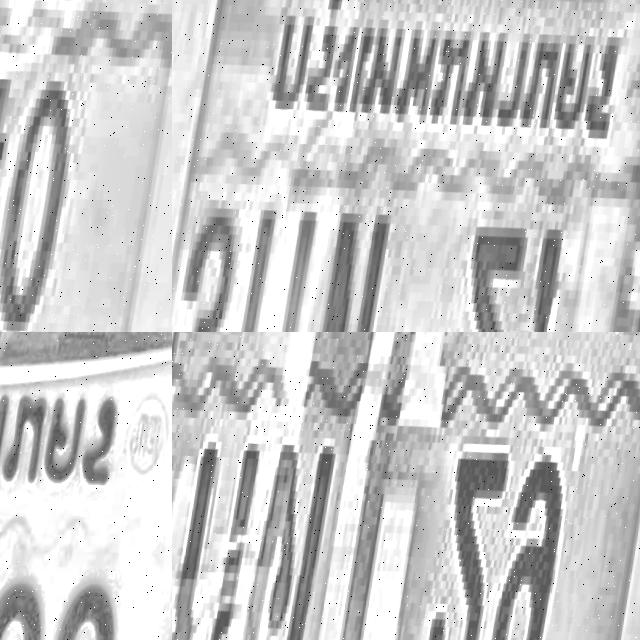license-plate: (172, 0, 640, 332), (172, 332, 640, 640), (0, 0, 172, 332), (0, 332, 172, 640)
